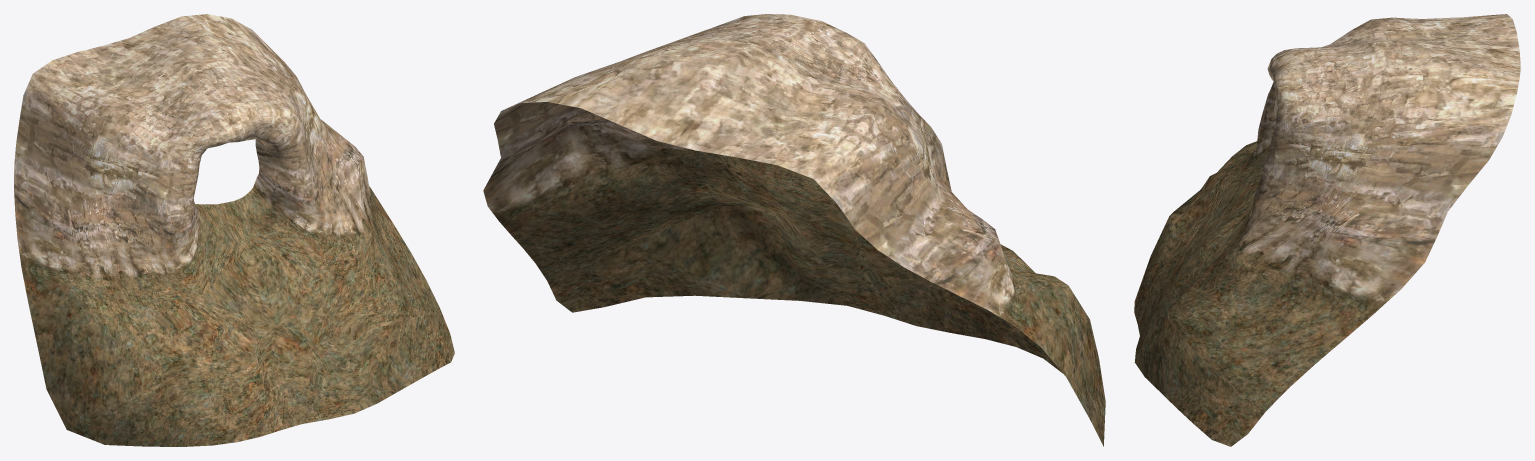
The model's file is thm_all_cave_s02_mirror_r0_mesh_l1.fbx.
The picture shows the model from 3 angles, left to right: view 1: azimuth 30°, elevation 25°; view 2: azimuth 150°, elevation 25°; view 3: azimuth 270°, elevation 25°; orthographic projection. The views are drawn at different scales.
Parts seen in each view (by area): view 1: mesh_node; view 2: mesh_node; view 3: mesh_node.
Part boxes in pixels (bbox=[...]): mesh_node: bbox=[14, 14, 454, 446]; mesh_node: bbox=[483, 14, 1105, 446]; mesh_node: bbox=[1134, 14, 1520, 446].
Size of the model in its own units: 48.97 by 34.18 by 39.36.
